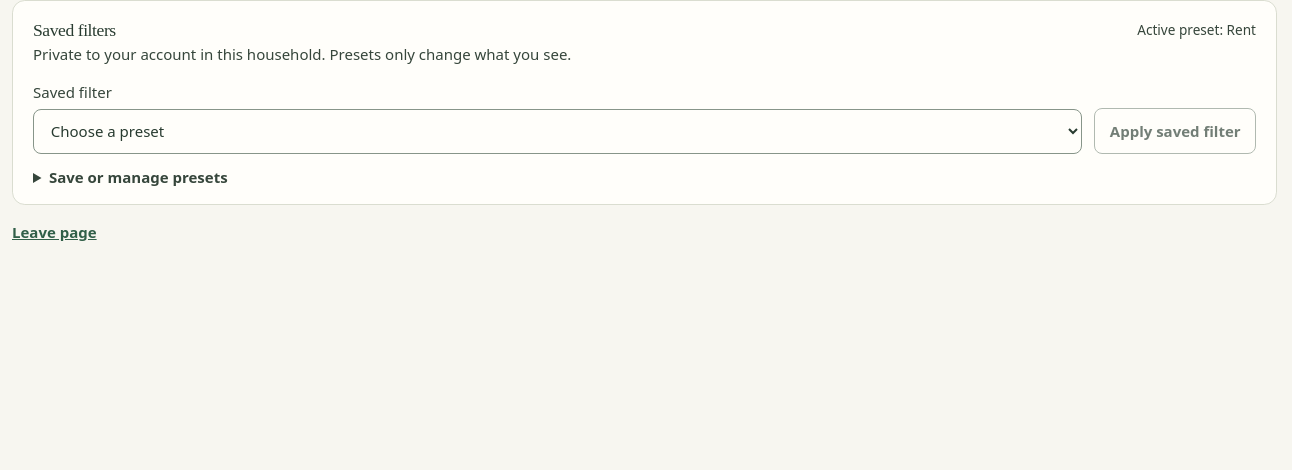
Test: private saved transaction filters › retains loaded presets after refresh failure instead of claiming an empty list
What coordinates should you click on to do the following:
click the heading "Save or manage presets"
I would click on:
 (138, 177)
Its box is [49,167,228,187].
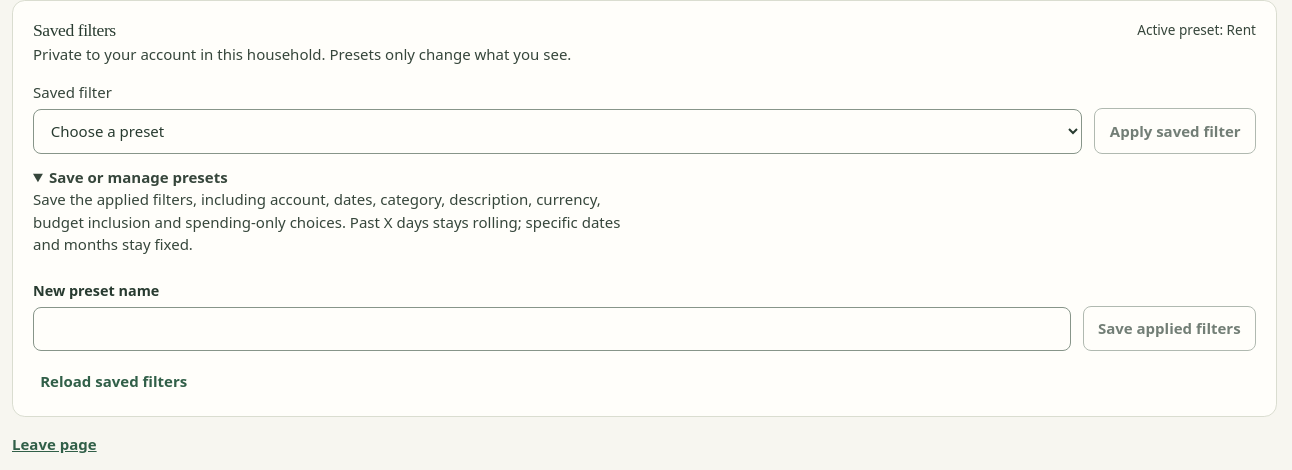
What coordinates should you click on to do the following:
click the button "Reload saved filters"
I would click on:
 (114, 382)
Its box is [33,363,194,400].
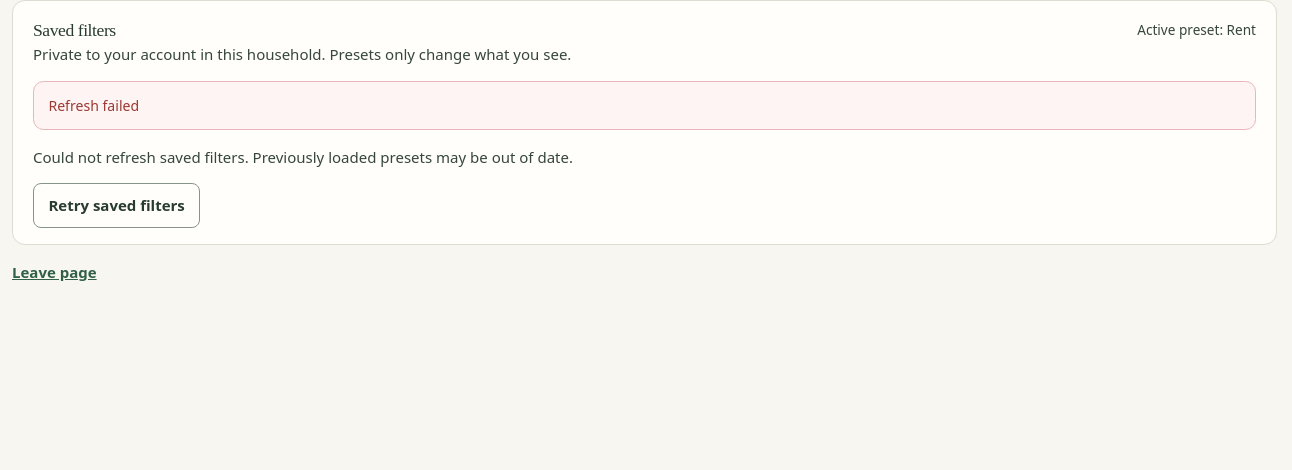
Check: the text "Previously loaded presets may be out of date" is shown, box [249,147,573,167]
